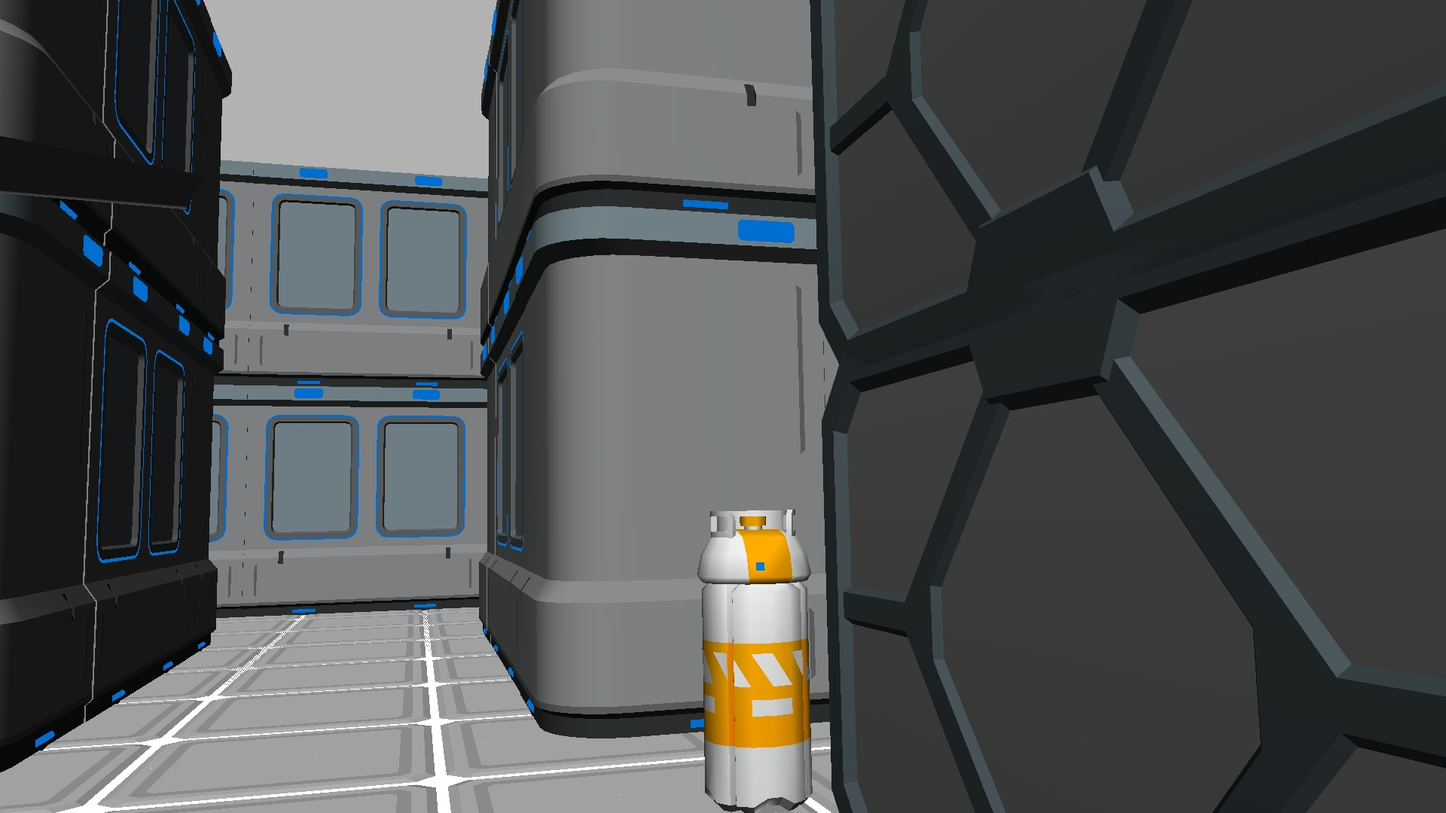yellow barrel: (697, 509, 813, 813)
